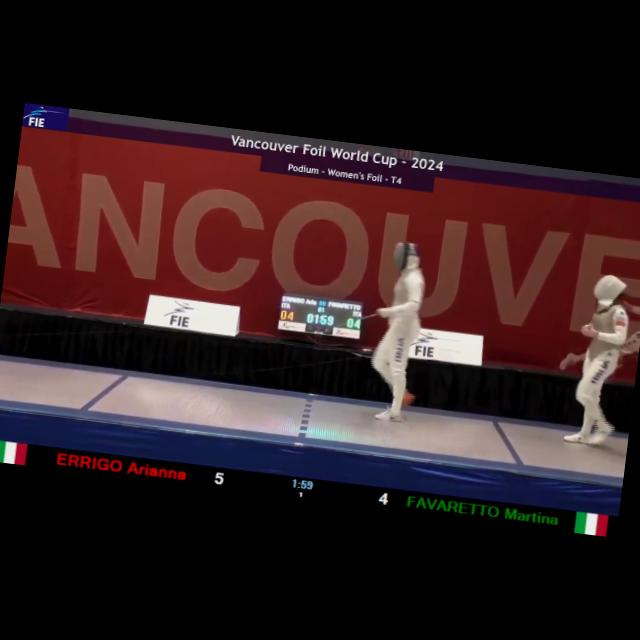blade: (315, 300, 384, 339)
